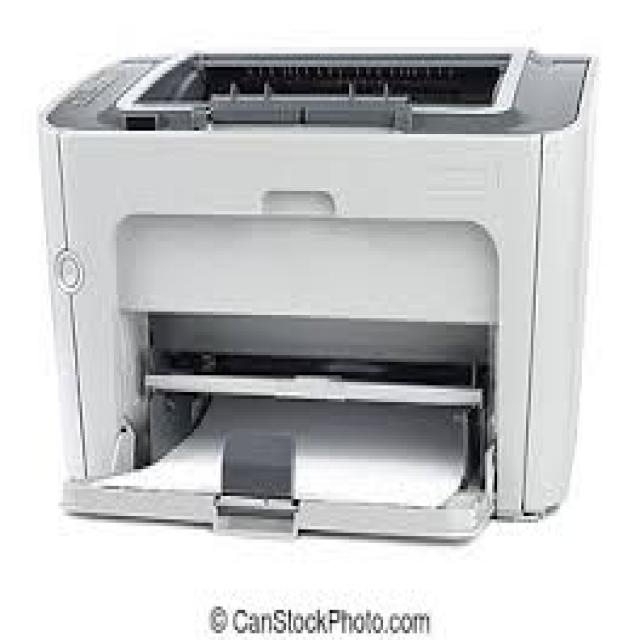printer: (33, 42, 606, 539)
